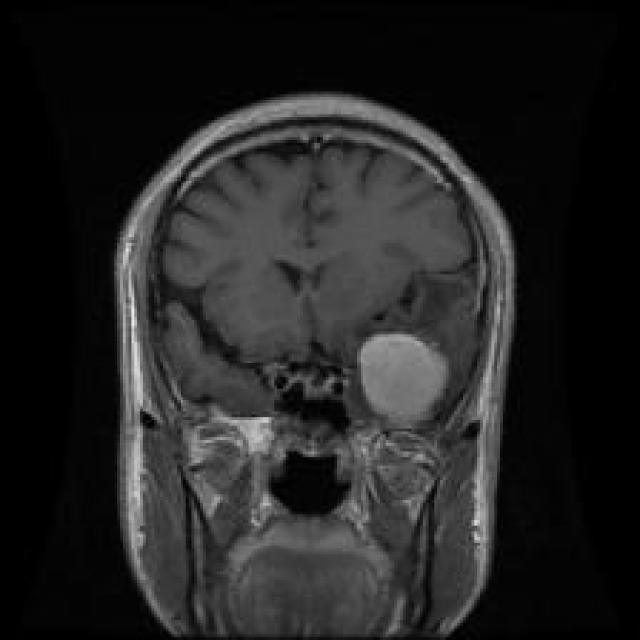meningioma_tumor: (342, 316, 472, 444)
